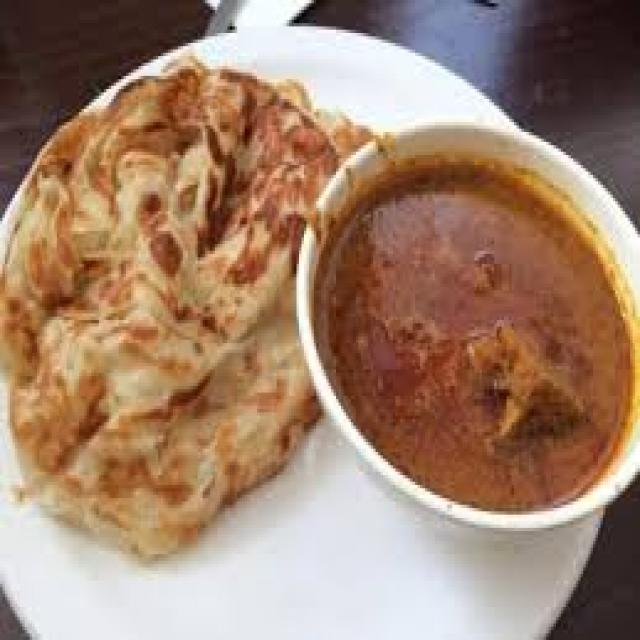Paratha: (10, 66, 344, 549)
